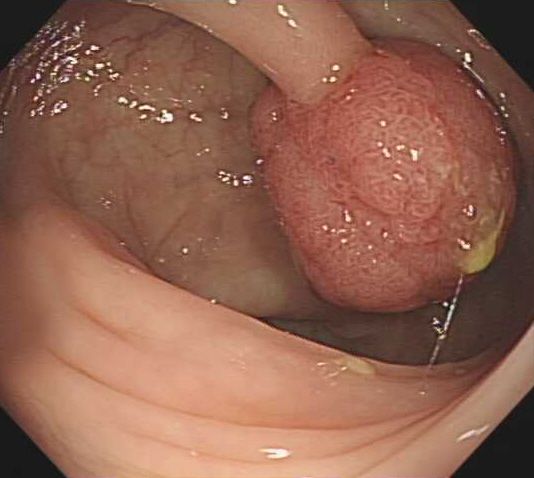adenoma: (249, 34, 523, 318)
